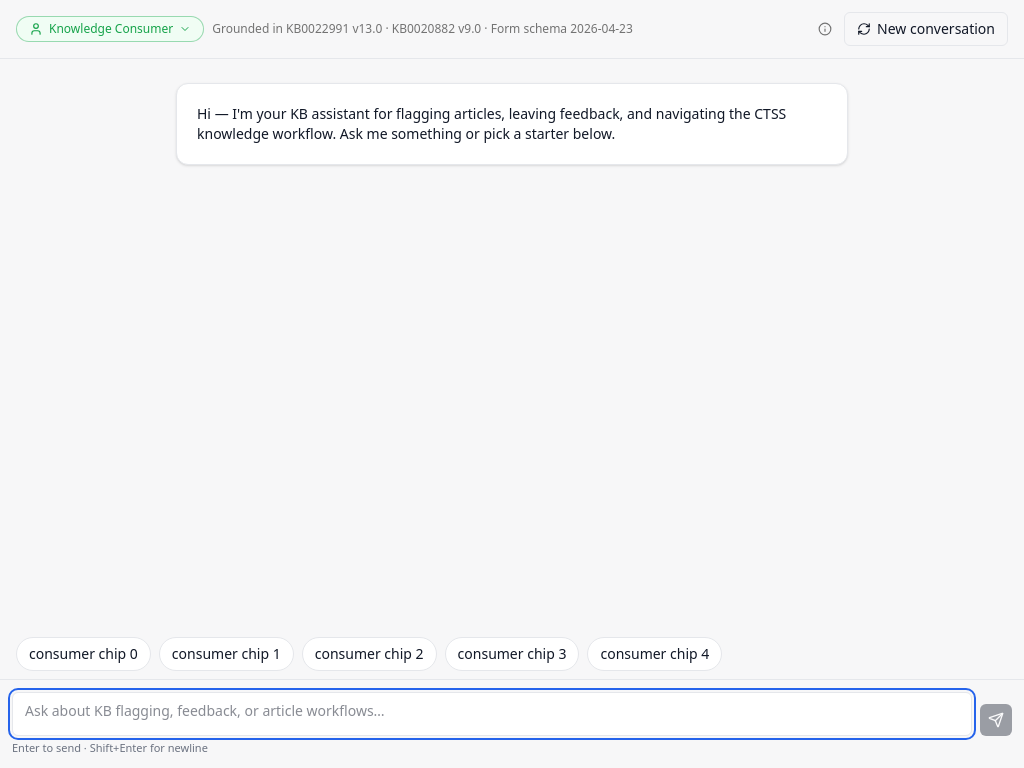
Scenario: ChatSurface › Stop preserves accumulated text (Pitfall 5 + stoppedByUser)
// Wait for chips, then send
Type "Will you answer?" into the text box.
click(492, 714); type("Will you answer?")  # box [12,692,972,736]
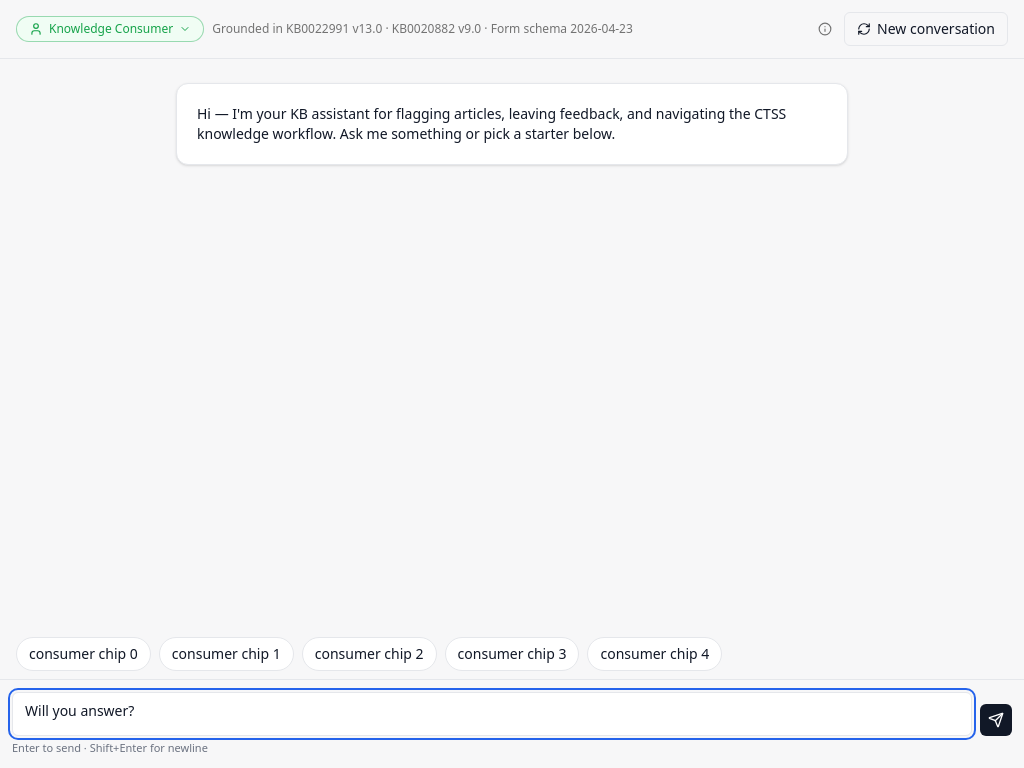
Press Enter
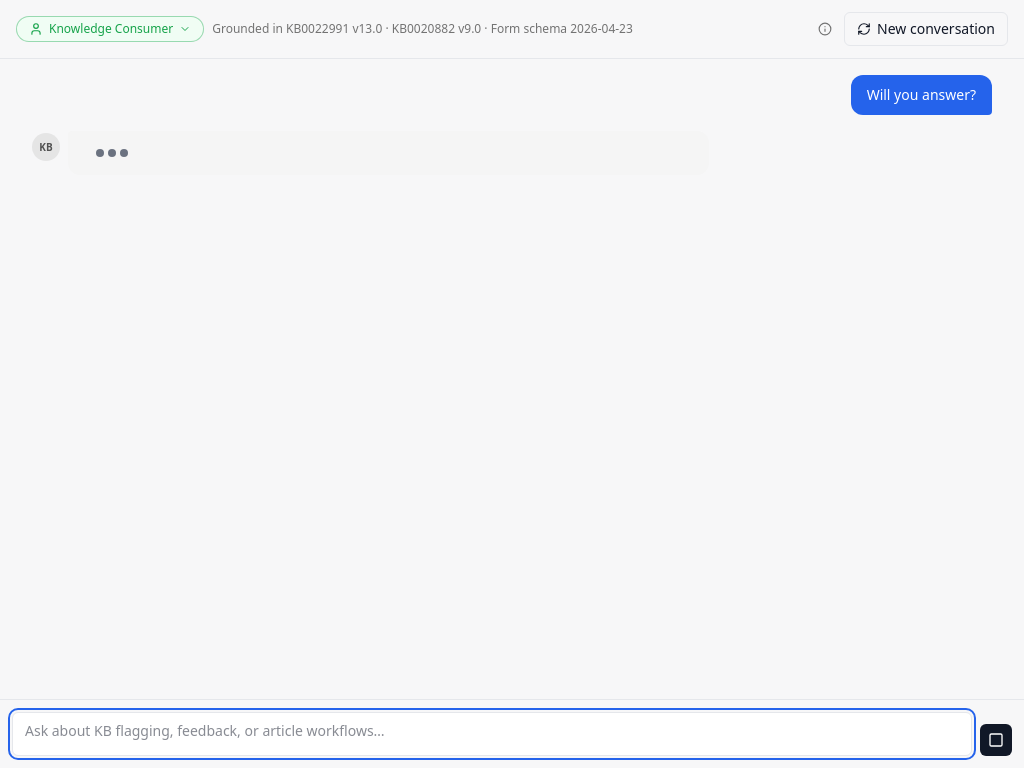
Click the button named "stop response".
click(996, 740)  # box [980,724,1012,756]
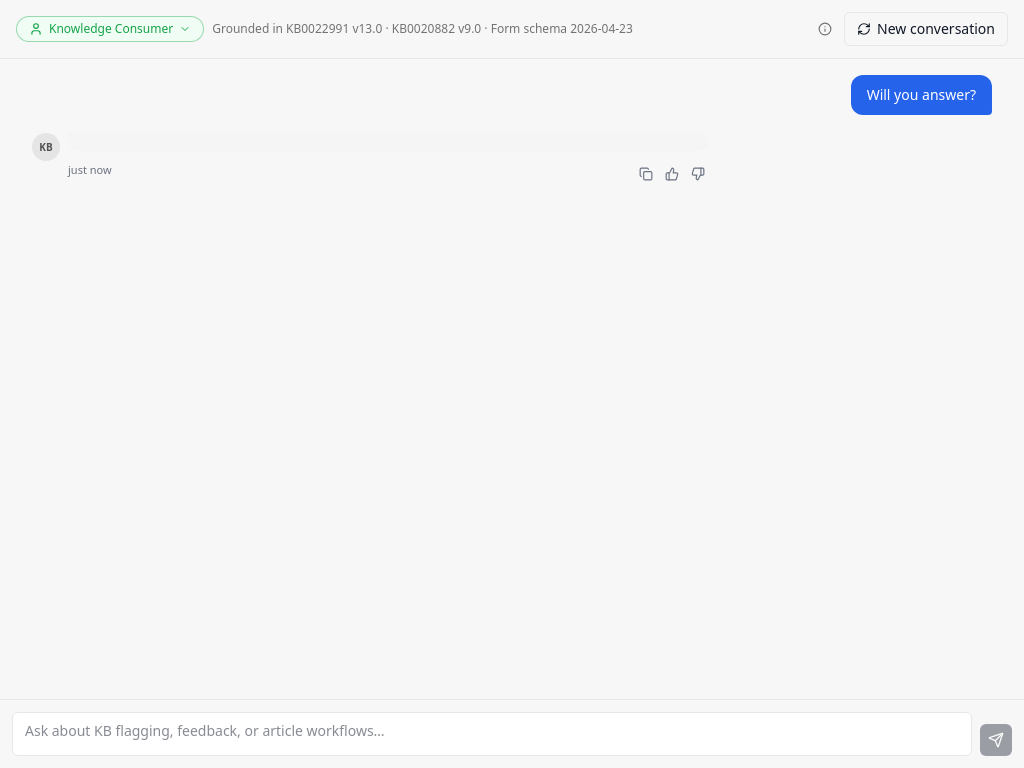
Expected: the message is gone
